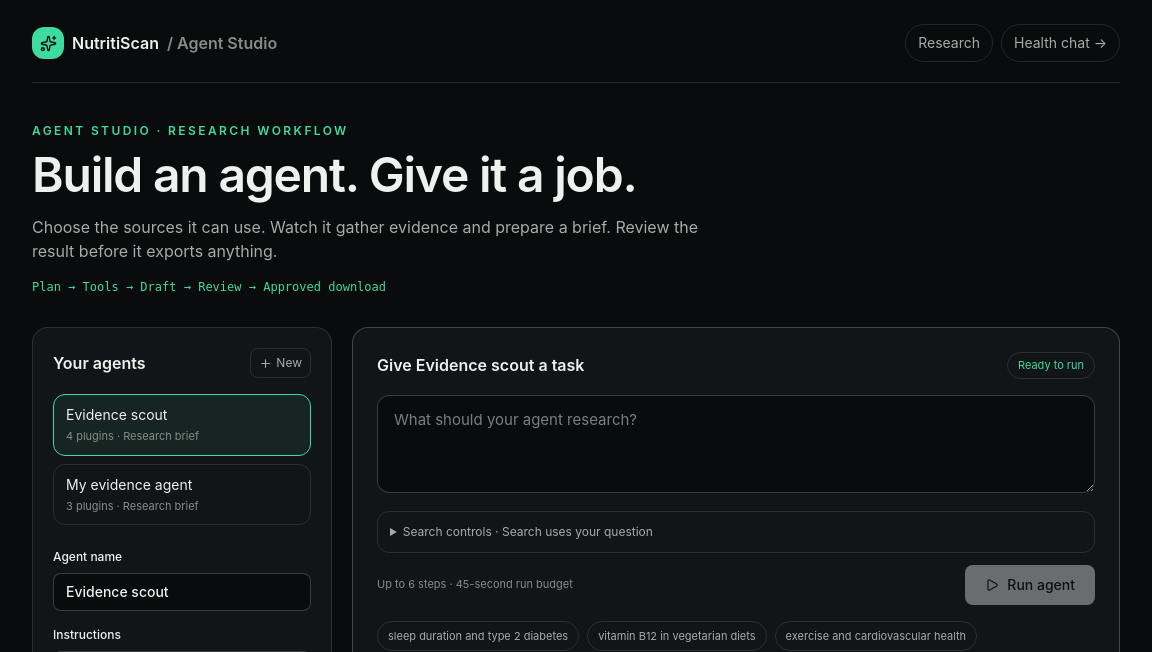
Test: Agent Studio › stops an in-flight run and allows a new task
Type "protein" into the text box named "Agent task" at (736, 444), box left=377, top=394, right=1095, bottom=492
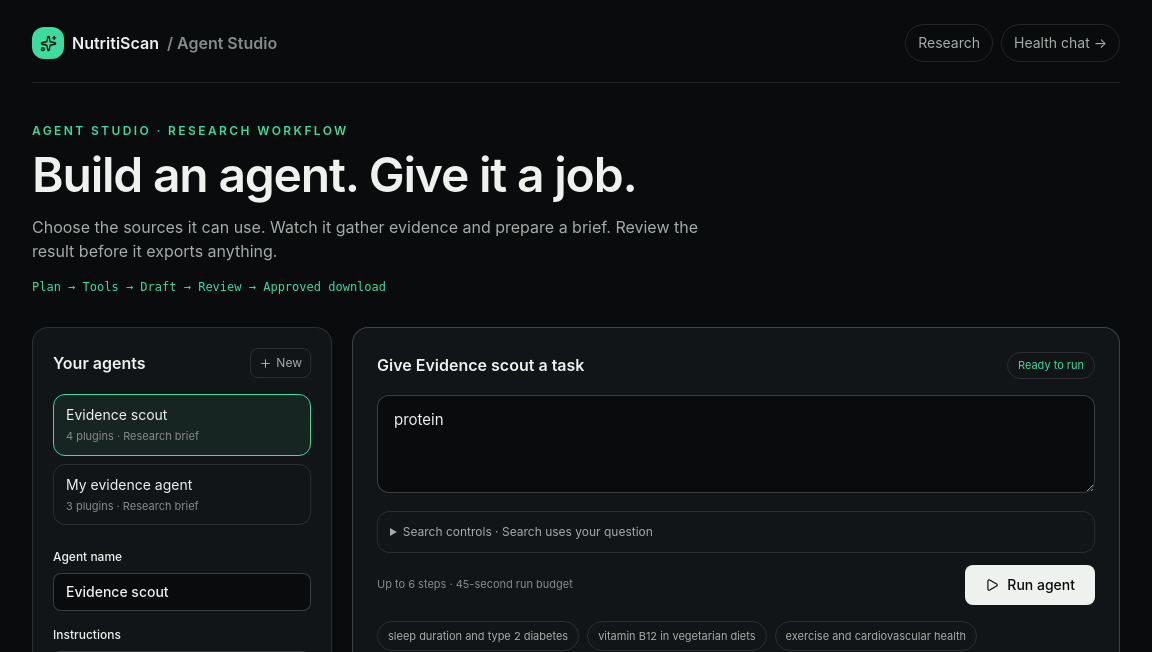
Click the button "Run agent" at (1030, 584), box left=965, top=564, right=1095, bottom=604
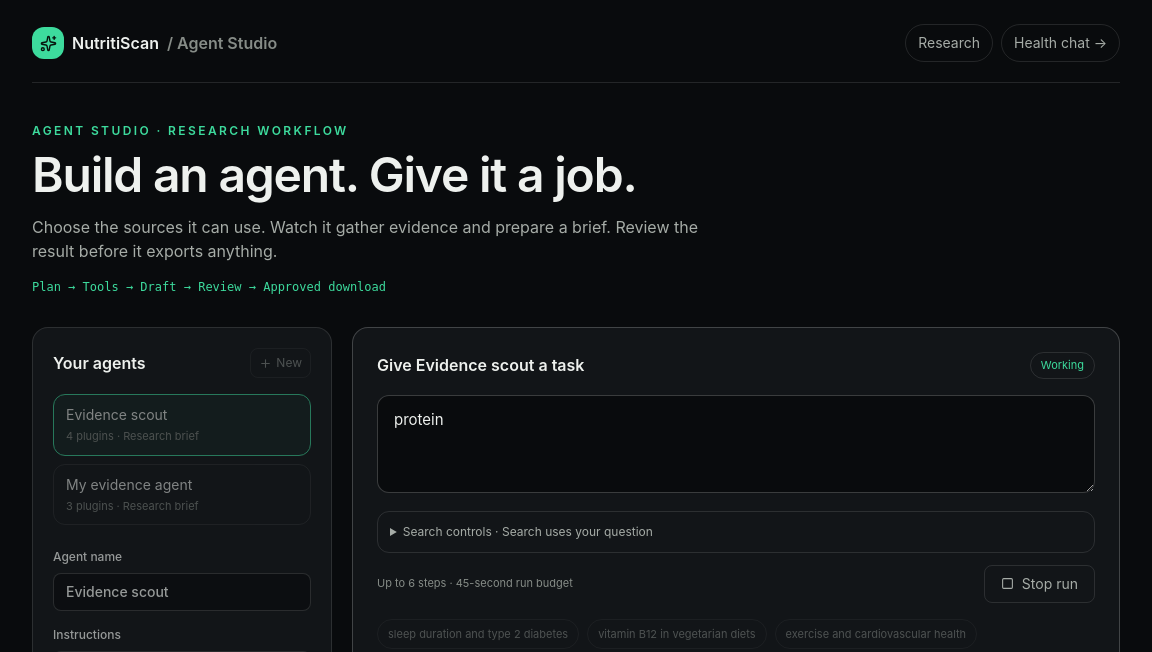
Click the button "Stop run" at (1039, 584), box left=984, top=564, right=1095, bottom=602
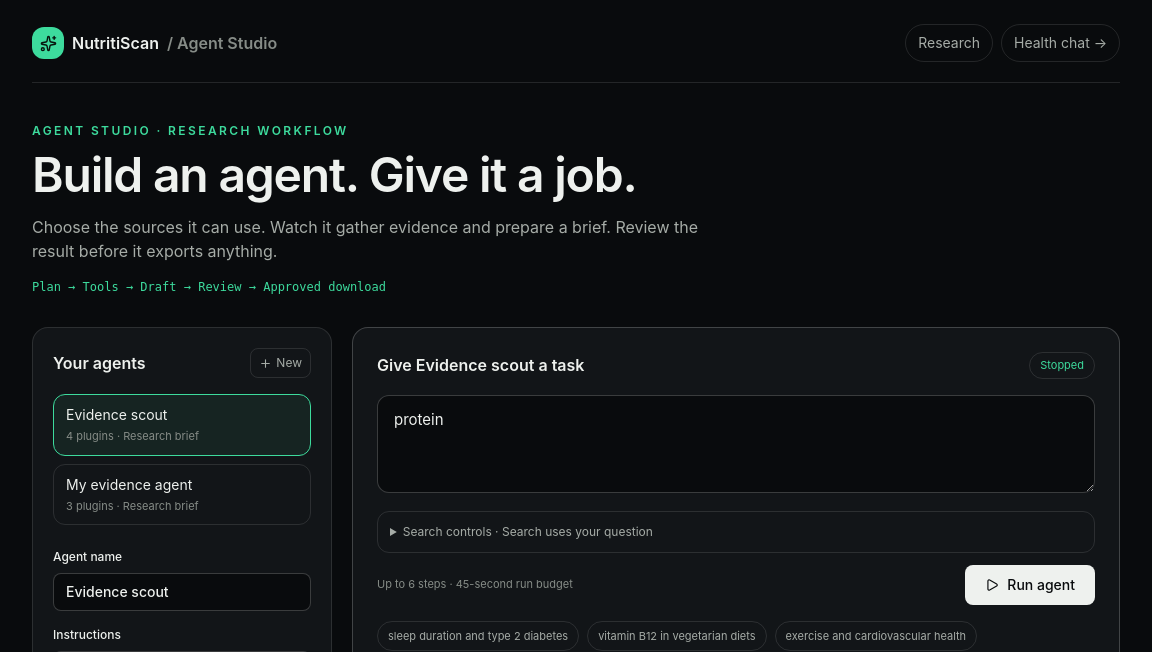
Result: the button "Run agent" is enabled at left=965, top=564, right=1095, bottom=604
Result: the text "Stopped" is shown at left=1029, top=352, right=1095, bottom=378
